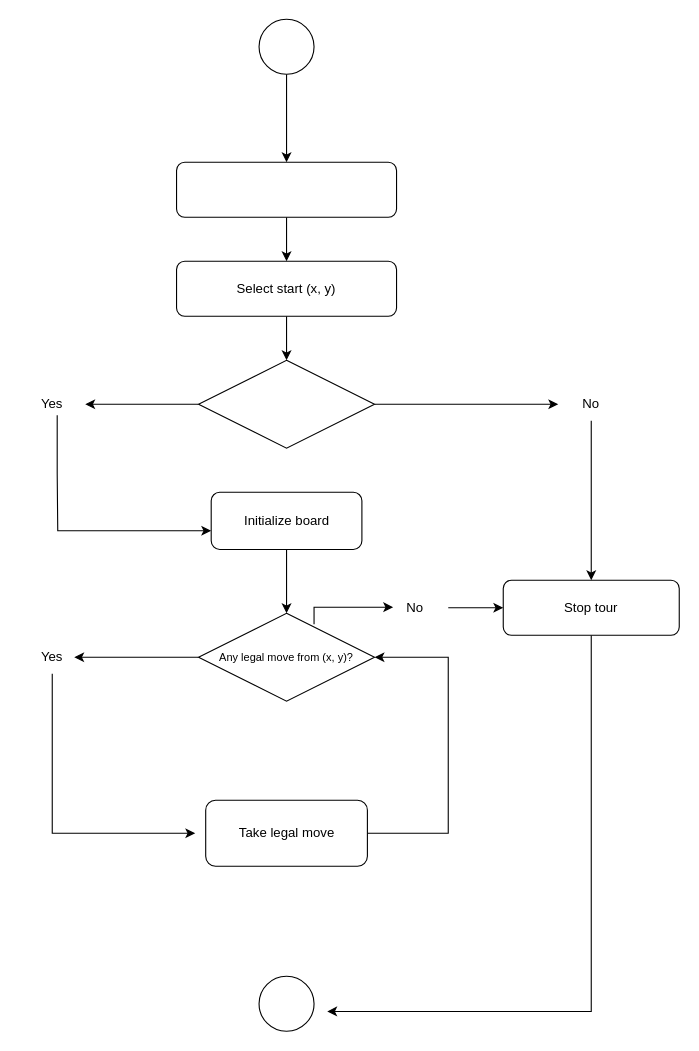
This 699x1051 diagram has some shape labels left out. Each missing label, with the centre of its shape:
Start in bounds?: the point at 286,403
Welcome user: the point at 286,189
